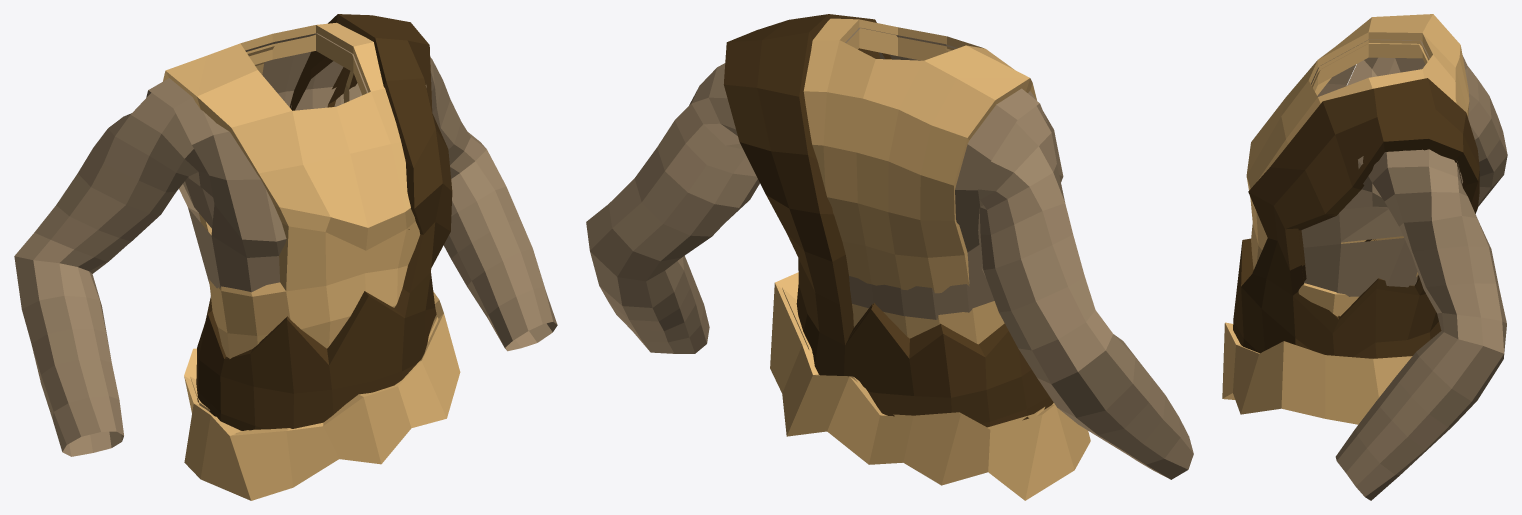
File: Icon 1.fbx
3 views of the same model, side by side, from view 1: azimuth 30°, elevation 25°; view 2: azimuth 150°, elevation 25°; view 3: azimuth 270°, elevation 25° (orthographic). The views are drawn at different scales.
Parts seen in each view (by area): view 1: Cube.007; view 2: Cube.007; view 3: Cube.007.
Boxes of the visible parts, x1,y1,x2,y2 form: Cube.007: (14,14,557,500); Cube.007: (586,14,1193,500); Cube.007: (1222,14,1507,500).
Bounding box in the file's own units: 88.43 × 67.25 × 45.44.
